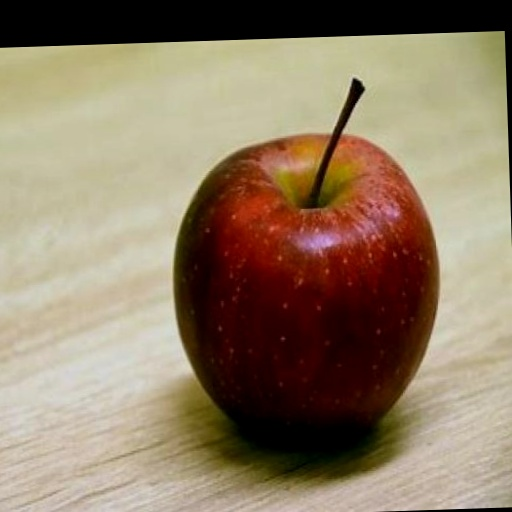fruit: (174, 124, 438, 437)
